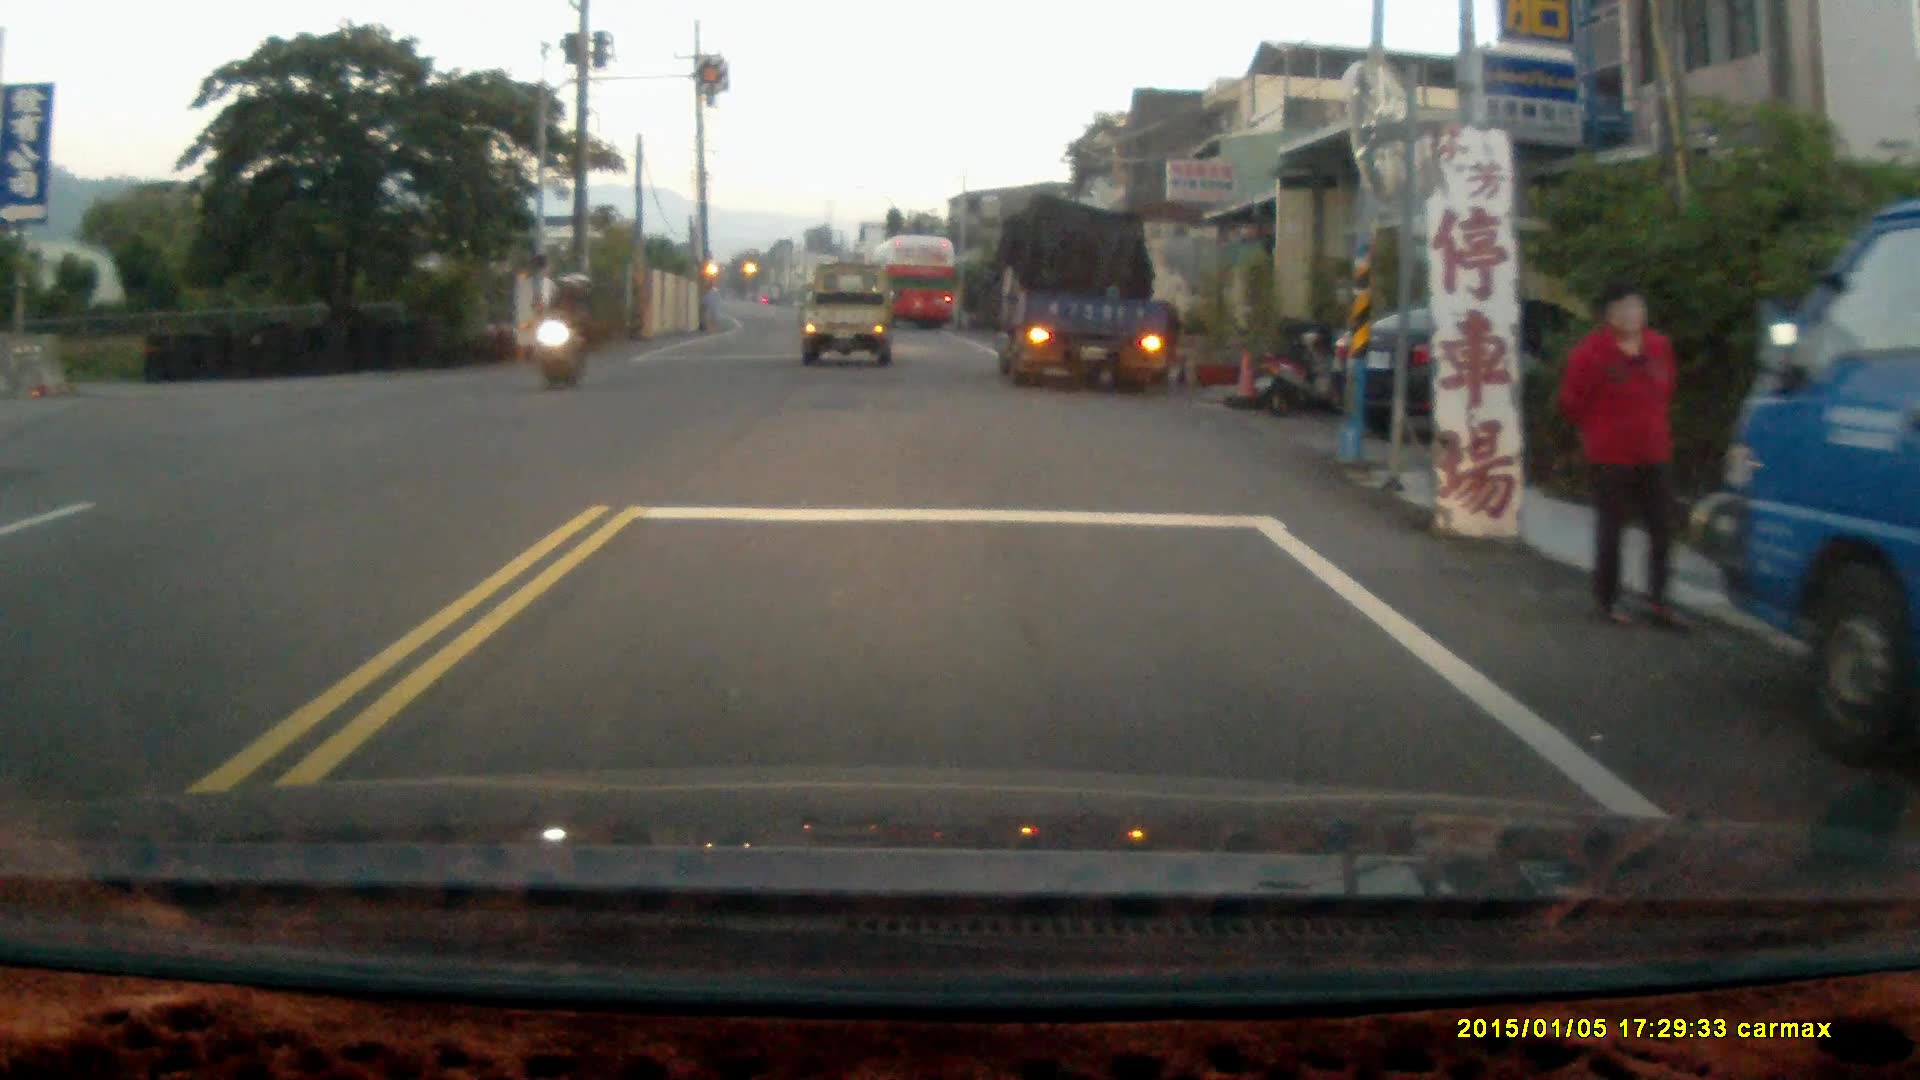pedestrian: (1560, 279, 1686, 635)
rider: (530, 270, 597, 393)
vehicle: (1701, 197, 1919, 787), (1336, 292, 1686, 450), (996, 197, 1182, 390), (801, 262, 896, 375), (868, 232, 963, 331)
